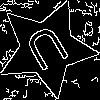U: (21, 23, 77, 81)
